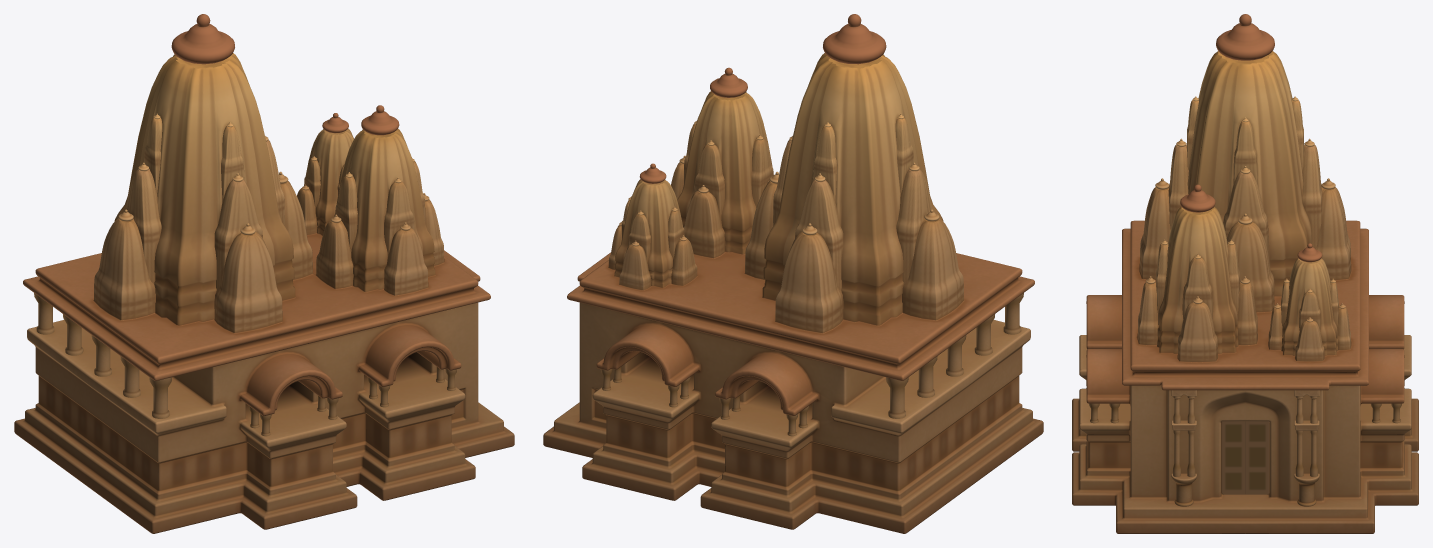
File: temple.glb
3 renders of one model, left to right at view 1: azimuth 30°, elevation 25°; view 2: azimuth 150°, elevation 25°; view 3: azimuth 270°, elevation 25°, orthographic. The views are drawn at different scales.
Visible parts, largest first — view 1: icon_hindu_temple_base_stylized_lod0; view 2: icon_hindu_temple_base_stylized_lod0; view 3: icon_hindu_temple_base_stylized_lod0.
Part boxes in pixels (<box>): icon_hindu_temple_base_stylized_lod0: <box>14,14,514,533</box>; icon_hindu_temple_base_stylized_lod0: <box>543,14,1043,533</box>; icon_hindu_temple_base_stylized_lod0: <box>1072,14,1418,533</box>.
Size of the model in its own units: 0.407 by 0.4722 by 0.3619.
1 material, 1 textured.
